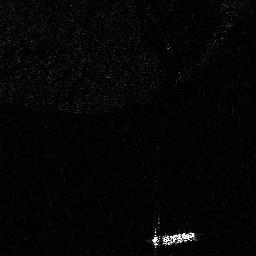ship: (142, 216, 204, 252)
